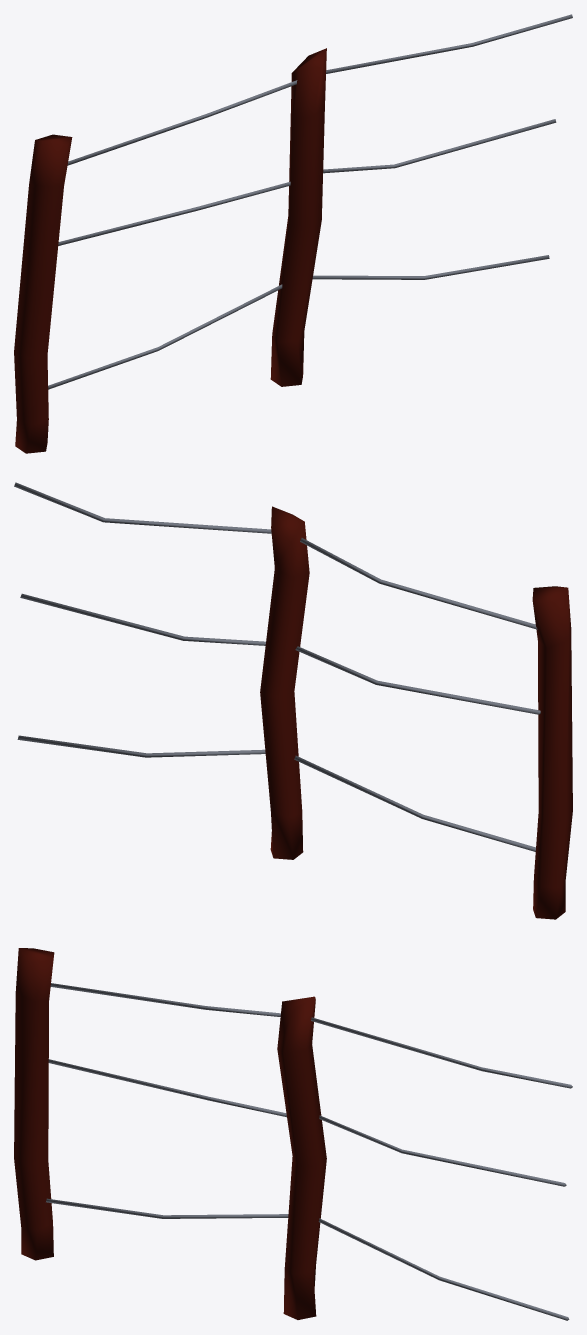
The model's file is HWN20_WoodFence_01.glb.
The picture shows the model from 3 angles, top to bottom: view 1: azimuth 30°, elevation 25°; view 2: azimuth 150°, elevation 25°; view 3: azimuth 330°, elevation 25°; orthographic projection.
Visible parts, largest first — view 1: HWN20_WoodFence_01; view 2: HWN20_WoodFence_01; view 3: HWN20_WoodFence_01.
Boxes of the visible parts, x1,y1,x2,y2 form: HWN20_WoodFence_01: (14,14,572,453); HWN20_WoodFence_01: (14,482,572,919); HWN20_WoodFence_01: (14,948,572,1320).
Size of what is drawn, in the model's own units: 2.9 by 1.67 by 0.3016.
Materials: 1 (1 with a texture image).
